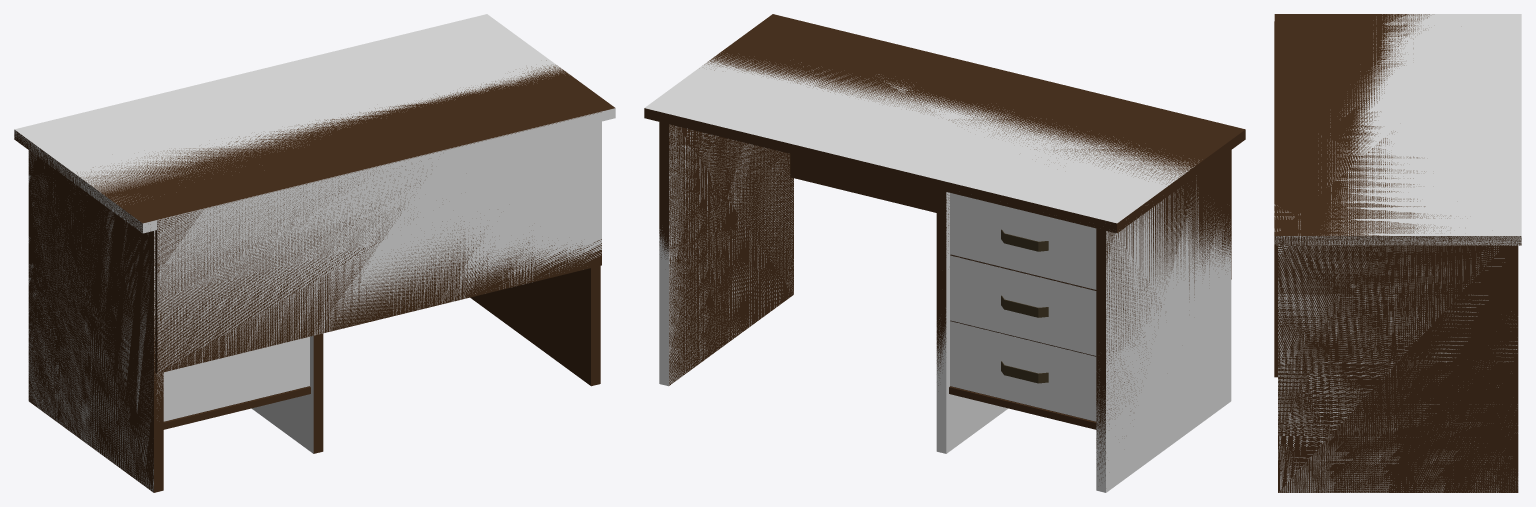
Rendered from table1.fbx.
3 views of the same model, side by side, from view 1: azimuth 30°, elevation 25°; view 2: azimuth 150°, elevation 25°; view 3: azimuth 270°, elevation 25° (orthographic). The views are drawn at different scales.
Parts seen in each view (by area): view 1: tabple1, tabple1.005, tabple1.003, tabple1.004, Cube.003, tabple1.002; view 2: tabple1, tabple1.003, tabple1.004, tabple1.001, Cube, Cube.010, Cube.001, tabple1.002, drawer3, drawer1; view 3: tabple1, tabple1.003, tabple1.001.
Boxes of the visible parts, bbox=[...] form: tabple1: bbox=[14, 60, 614, 492]; tabple1.005: bbox=[157, 112, 601, 373]; tabple1.003: bbox=[14, 14, 615, 233]; tabple1.004: bbox=[28, 151, 163, 491]; Cube.003: bbox=[163, 336, 309, 421]; tabple1.002: bbox=[251, 336, 313, 453]; tabple1: bbox=[644, 14, 1245, 479]; tabple1.003: bbox=[645, 53, 1199, 223]; tabple1.004: bbox=[1096, 175, 1231, 492]; tabple1.001: bbox=[659, 125, 793, 386]; Cube: bbox=[950, 321, 1096, 421]; Cube.010: bbox=[950, 255, 1096, 355]; Cube.001: bbox=[950, 193, 1096, 289]; tabple1.002: bbox=[936, 192, 1008, 453]; drawer3: bbox=[950, 255, 1096, 355]; drawer1: bbox=[950, 320, 1095, 421]; tabple1: bbox=[1274, 14, 1521, 492]; tabple1.003: bbox=[1274, 14, 1521, 245]; tabple1.001: bbox=[1278, 245, 1517, 492].
Size of the model in its own units: 1.88 by 1.04 by 0.8846.
